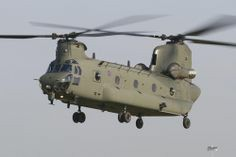chinook: (18, 22, 223, 129)
